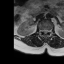CCS_normal: (44, 27, 46, 36)
LFS_normal: (48, 27, 50, 34)
LLS_normal: (46, 27, 48, 34)
RFS_normal: (40, 27, 42, 33)
RLS_normal: (42, 27, 44, 34)
